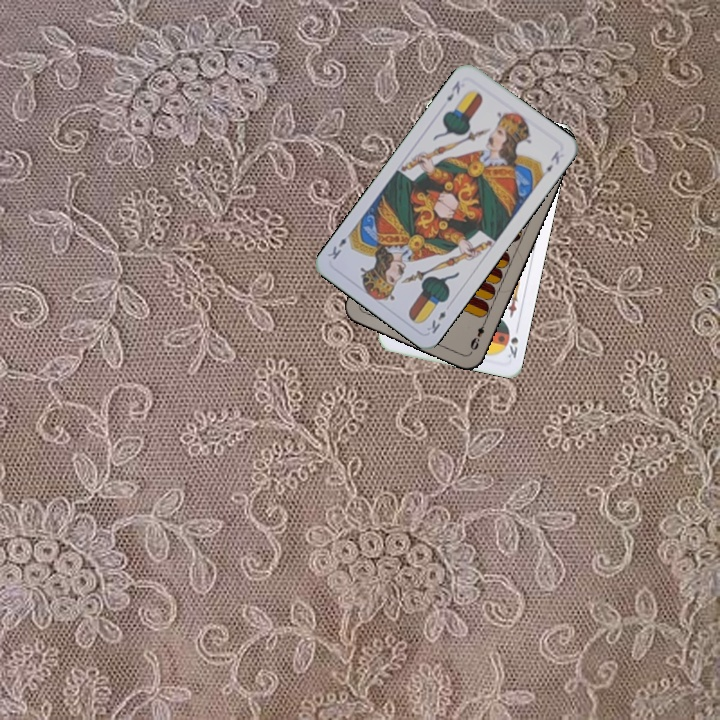E9: (466, 316, 489, 355)
EK: (423, 307, 449, 337), (442, 76, 463, 104)
SK: (501, 325, 521, 361)
